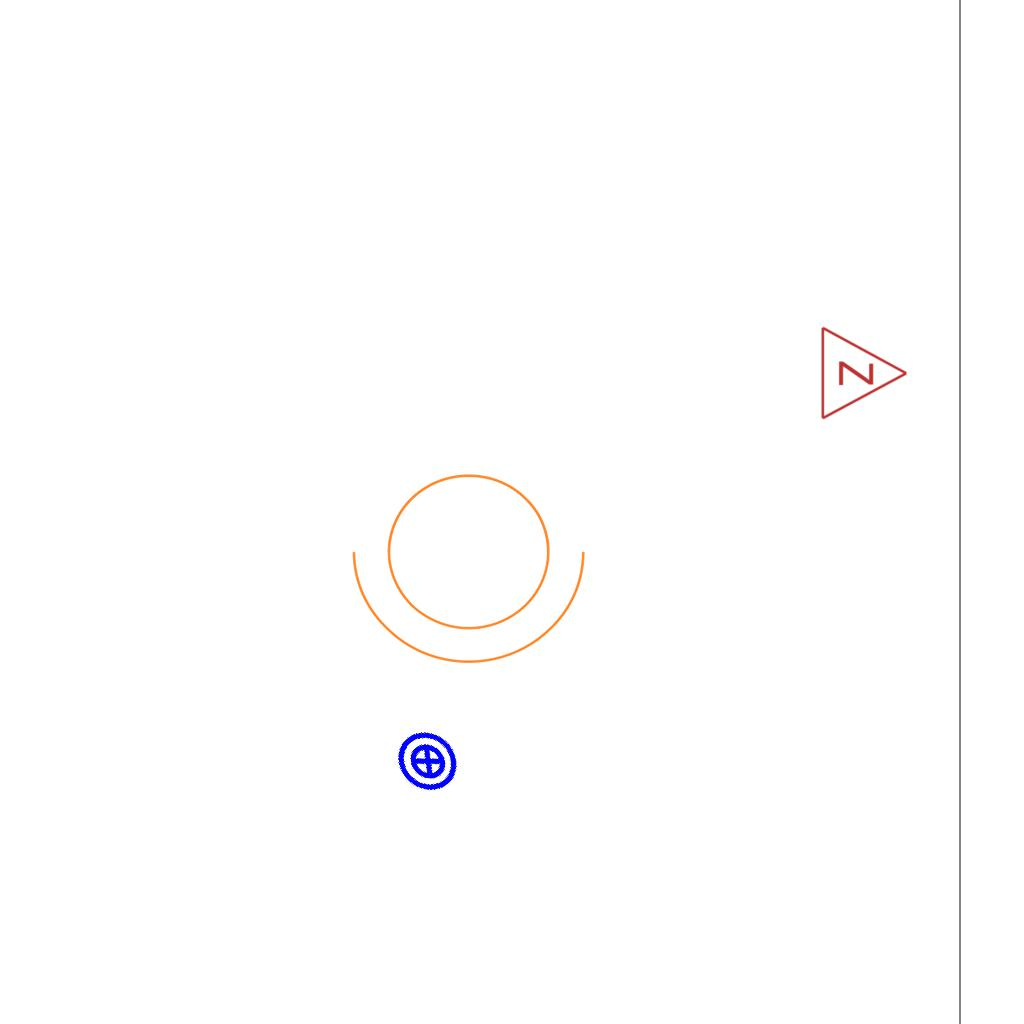Scheinwerfer_fuer_Alarmbeleuchtung: (343, 449, 607, 674)
Taster_beleuchtet: (381, 714, 475, 808)
Zimmersignalleuchte: (814, 323, 914, 421)
